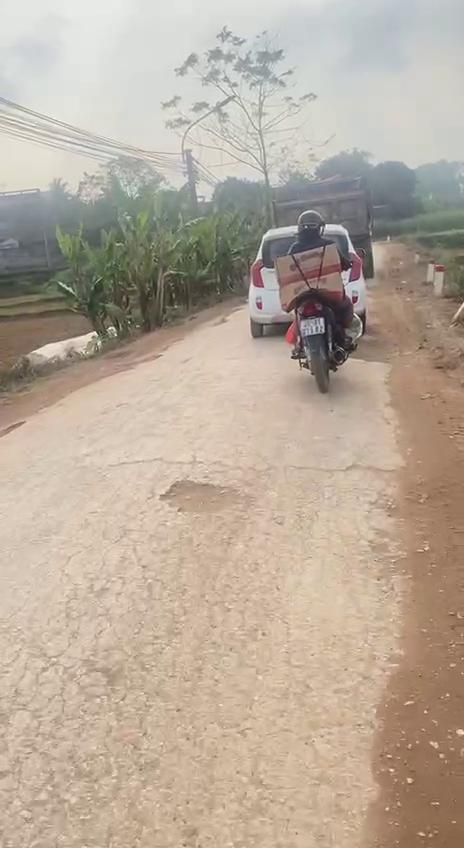pothole: (158, 473, 249, 525)
